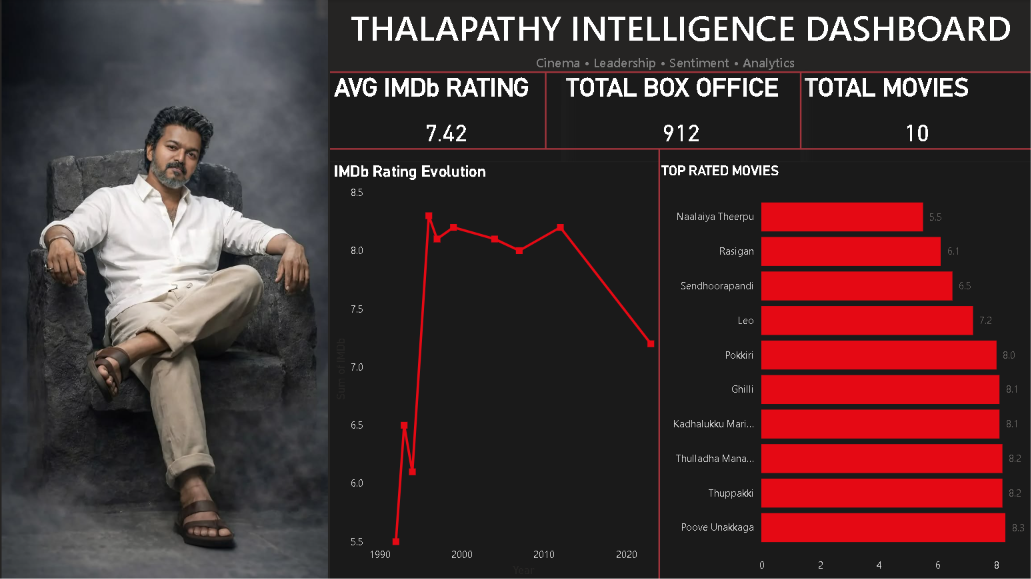

What the dashboard file says about the page in this screenshot:
{"tool":"powerbi","page":{"name":"Overview","canvas":[1280,720],"ordinal":0},"visuals":[{"type":"image","box":[0,0,408.8,719.2],"z":0},{"type":"textbox","box":[408.8,0,870.7,90.9],"z":1000},{"type":"textbox","box":[659.1,62.1,347,59.1],"z":2000},{"type":"card","title":"     TOTAL MOVIES","fields":{"Values":["CountNonNull(Filmography.Movie)"]},"box":[992.4,90.9,287.9,110.6],"z":3000},{"type":"card","title":"     TOTAL BOX OFFICE","fields":{"Values":["Sum(Filmography.WorldwideGross)"]},"box":[695.5,90.9,297,110.6],"z":4000},{"type":"card","title":"     AVG IMDb RATING","fields":{"Values":["Avg(Filmography.IMDb)"]},"box":[409.1,90.9,286.4,110.6],"z":5000},{"type":"lineChart","title":"IMDb Rating Evolution","fields":{"Category":["Filmography.Year"],"Y":["Sum(Filmography.IMDb)"]},"box":[409.1,201.5,434.8,518.2],"z":6000},{"type":"clusteredBarChart","title":"TOP RATED MOVIES","fields":{"Category":["Filmography.Movie"],"Y":["Sum(Filmography.IMDb)"]},"box":[815.2,201.5,465.2,518.2],"z":7000},{"type":"shape","box":[408.8,157.5,870.7,56],"z":8000},{"type":"shape","box":[802.5,186.2,30.3,533],"z":9000},{"type":"shape","box":[408.8,71.2,870.7,39.4],"z":9001},{"type":"shape","box":[640.5,90.9,71.2,95.4],"z":9002},{"type":"shape","box":[957,90.9,71.2,95.4],"z":9003}]}

Visuals, with their boxes in screenshot pixels (x1, y1, x2, y2), scaled from the page's 1280x720 canvas onto the 1031x579 screenshot:
image: crop(0, 0, 329, 578)
textbox: crop(329, 0, 1030, 73)
textbox: crop(531, 50, 810, 97)
"     TOTAL MOVIES" card: crop(799, 73, 1030, 162)
"     TOTAL BOX OFFICE" card: crop(560, 73, 799, 162)
"     AVG IMDb RATING" card: crop(330, 73, 560, 162)
"IMDb Rating Evolution" lineChart: crop(330, 162, 680, 578)
"TOP RATED MOVIES" clusteredBarChart: crop(657, 162, 1030, 578)
shape: crop(329, 127, 1030, 172)
shape: crop(646, 150, 671, 578)
shape: crop(329, 57, 1030, 89)
shape: crop(516, 73, 573, 150)
shape: crop(771, 73, 828, 150)
